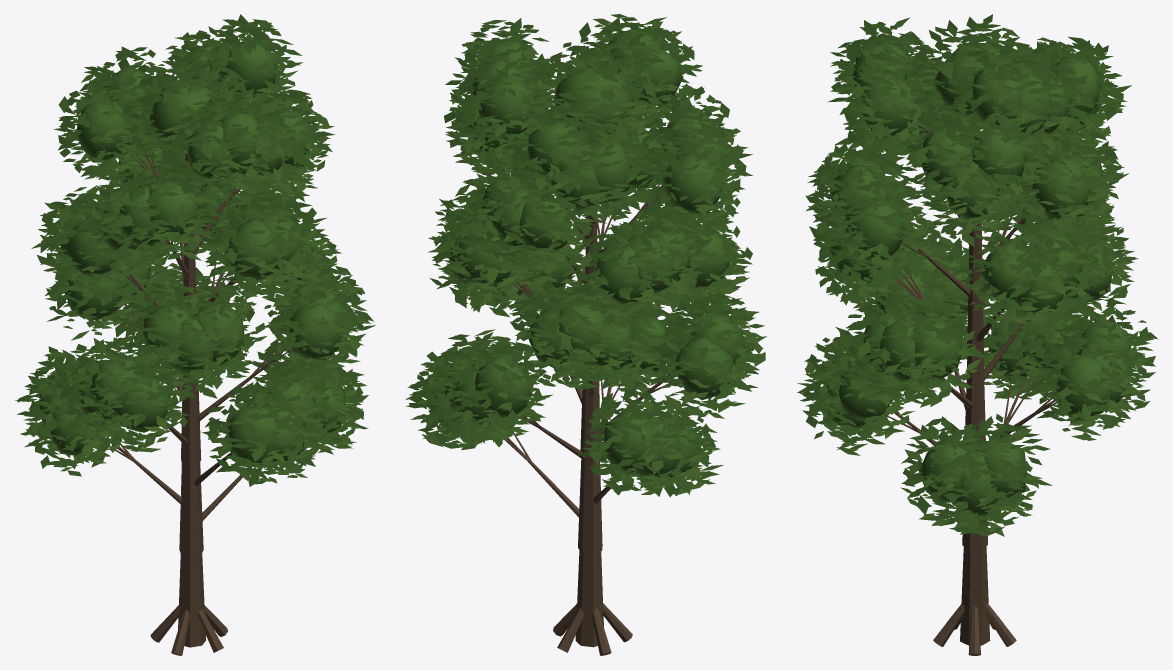
The model's file is alder_b.glb.
3 views of the same model, side by side, from view 1: azimuth 30°, elevation 25°; view 2: azimuth 150°, elevation 25°; view 3: azimuth 270°, elevation 25° (orthographic). The views are drawn at different scales.
Visible parts, largest first — view 1: alder_b; view 2: alder_b; view 3: alder_b.
Boxes of the visible parts, bbox=[...] form: alder_b: bbox=[15, 14, 375, 655]; alder_b: bbox=[405, 14, 766, 655]; alder_b: bbox=[797, 14, 1158, 655].
Bounding box in the file's own units: 3.97 × 7.18 × 3.73.
